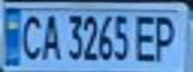2: (78, 11, 100, 61)
3: (63, 10, 84, 61)
5: (112, 11, 133, 61)
6: (97, 11, 118, 62)
A: (39, 10, 63, 61)
C: (18, 10, 45, 61)
E: (133, 10, 160, 63)
P: (151, 10, 184, 62)
